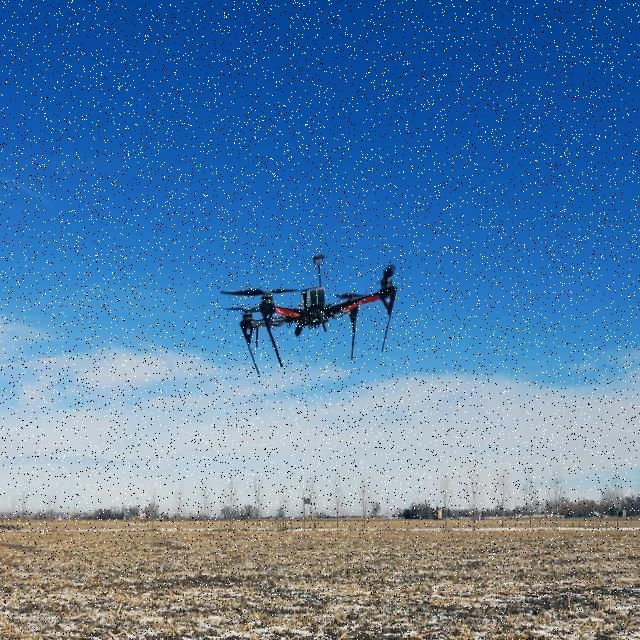UAV: (238, 250, 401, 372)
